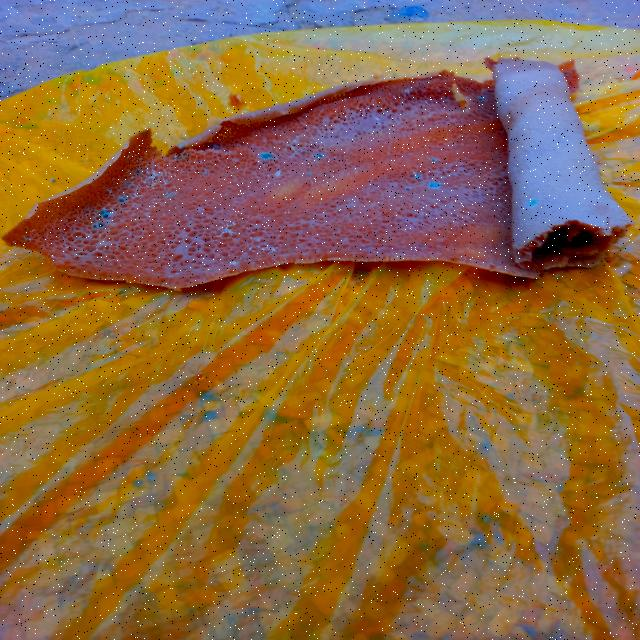injera_mold: (215, 218, 241, 239), (144, 166, 172, 184), (248, 245, 278, 257), (285, 136, 302, 149), (91, 220, 108, 228), (258, 152, 273, 160), (174, 151, 186, 159), (429, 181, 441, 189), (526, 199, 538, 207), (412, 170, 422, 179), (98, 209, 109, 217), (117, 195, 128, 203), (122, 181, 134, 188), (129, 193, 143, 199), (227, 260, 240, 266), (165, 192, 177, 198), (273, 170, 282, 178), (402, 88, 414, 94), (428, 157, 441, 162), (105, 188, 113, 194), (22, 236, 33, 240), (203, 168, 210, 174), (315, 154, 324, 158), (50, 254, 57, 259), (329, 187, 337, 191), (404, 186, 411, 190), (30, 228, 35, 233), (284, 210, 290, 214), (306, 172, 312, 176), (375, 117, 381, 120), (266, 175, 271, 178), (377, 122, 382, 125)
